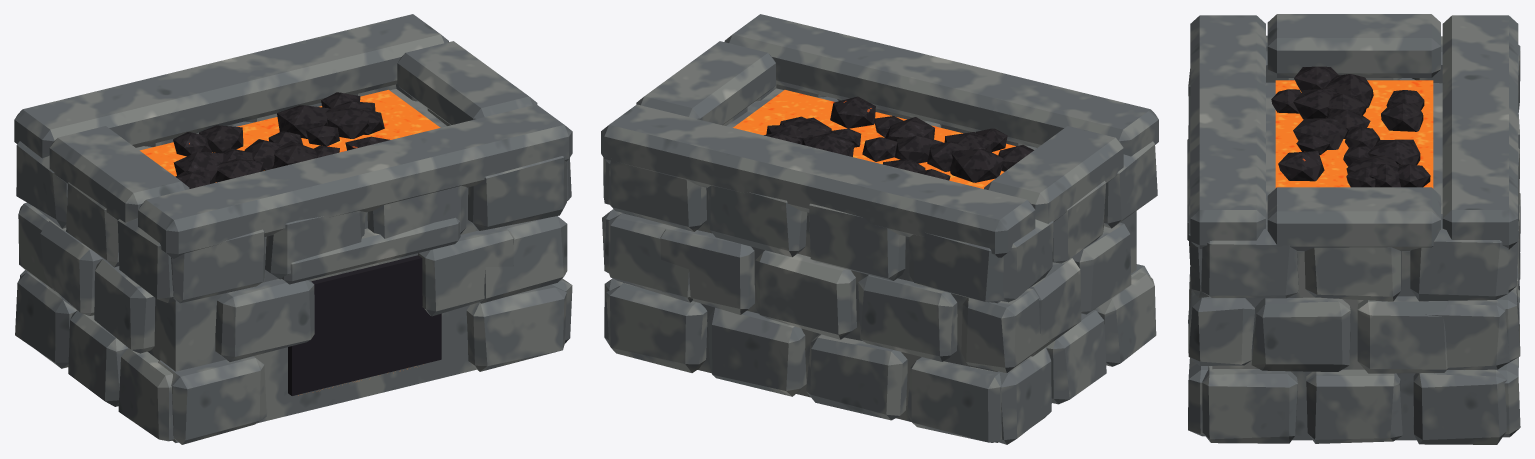
The model's file is forge_hearth.glb.
The picture shows the model from 3 angles, left to right: view 1: azimuth 30°, elevation 25°; view 2: azimuth 150°, elevation 25°; view 3: azimuth 270°, elevation 25°; orthographic projection. The views are drawn at different scales.
Visible parts, largest first — view 1: forge_hearth_masonry_body, forge_hearth_coal_bed, forge_hearth_ember_glow; view 2: forge_hearth_masonry_body, forge_hearth_coal_bed, forge_hearth_ember_glow; view 3: forge_hearth_masonry_body, forge_hearth_coal_bed, forge_hearth_ember_glow.
Part boxes in pixels (bbox=[...]): forge_hearth_masonry_body: bbox=[14, 14, 572, 444]; forge_hearth_coal_bed: bbox=[173, 92, 389, 188]; forge_hearth_ember_glow: bbox=[140, 90, 440, 395]; forge_hearth_masonry_body: bbox=[601, 14, 1158, 444]; forge_hearth_coal_bed: bbox=[764, 96, 1033, 182]; forge_hearth_ember_glow: bbox=[733, 90, 1015, 188]; forge_hearth_masonry_body: bbox=[1187, 14, 1520, 444]; forge_hearth_coal_bed: bbox=[1271, 66, 1430, 187]; forge_hearth_ember_glow: bbox=[1275, 80, 1433, 188].
Size of what is drawn, in the model's own units: 1.55 by 0.82 by 1.06.
Materials: 4 (4 with a texture image).
